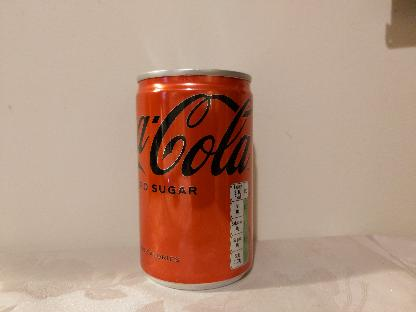Can: (134, 67, 256, 290)
